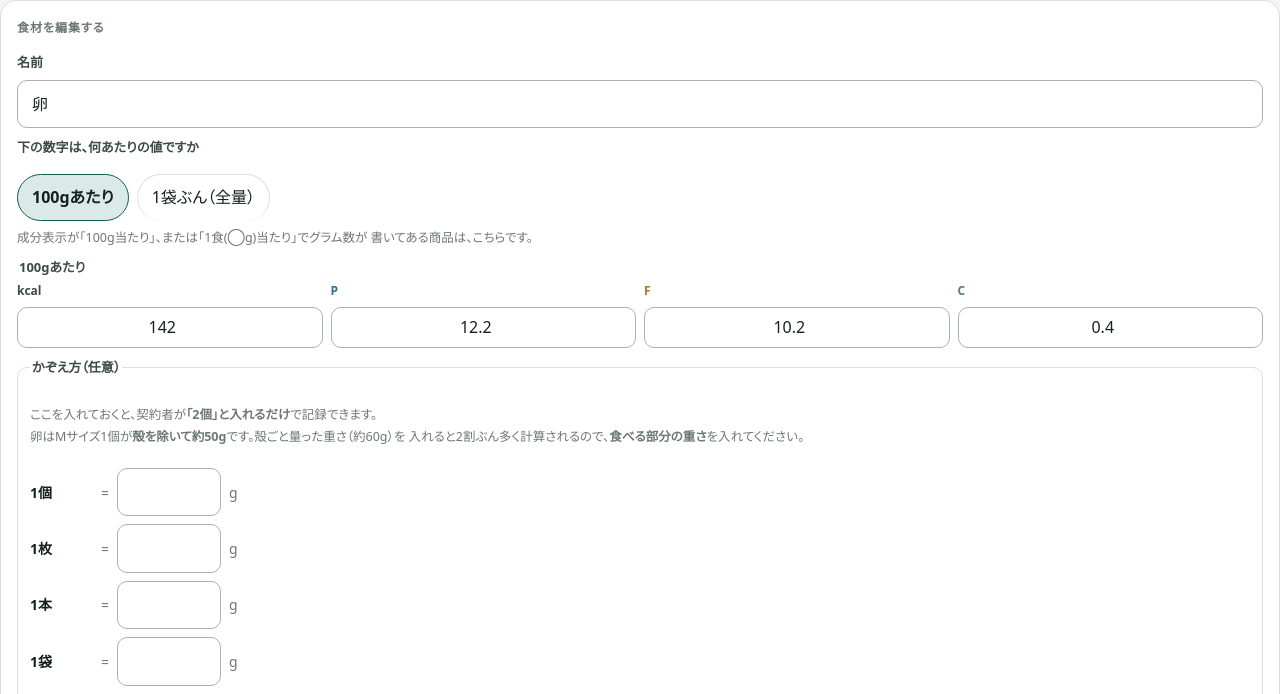
Test: ★ 1つぶんのカロリーを出す › 画面にも出る
Type "50" into the number field named "1個あたりの重さ（g）" at (169, 492), box [117,468,221,516]
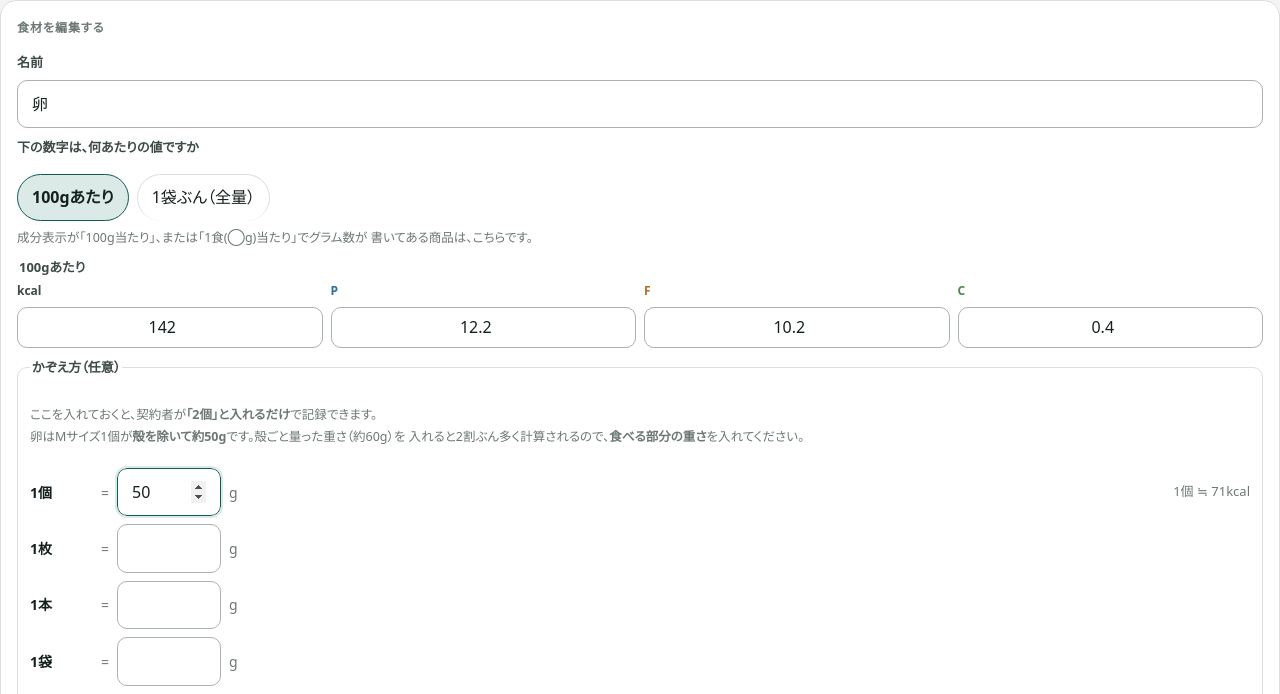
Check: the text "1個 ≒ 71kcal" is shown, box [1173,482,1250,500]
